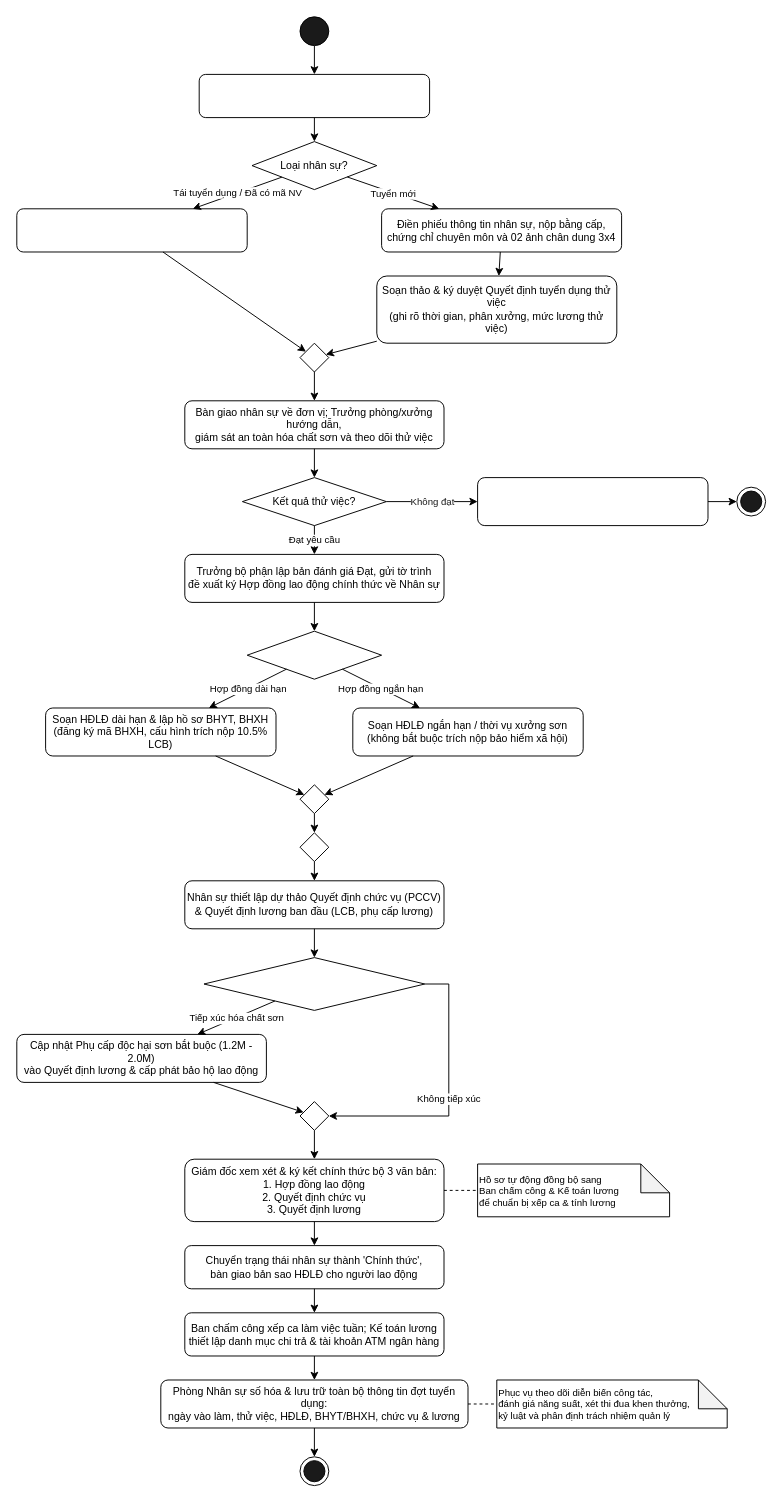
Some shapes in this 782 by 1502 pixel diagram are drawn without their labels. The centre of each missing label's shape, as x and y in pixels:
"Chấm dứt thử việc, quyết toán lương ngày công & thanh lý hồ sơ không trúng tuyển" goes at (x=592, y=501).
"Loại hợp đồng?" goes at (x=314, y=654).
"Tiếp nhận hồ sơ ứng viên tại phòng Nhân sự và kiểm tra tính hợp lệ" goes at (x=314, y=95).
"Tra cứu lý lịch hồ sơ nhân sự trên hệ thống (theo Mã NV, CCCD hoặc Họ tên)" goes at (x=131, y=230).
"Vị trí tiếp xúc hóa chất dung môi sơn?" goes at (x=314, y=983).
